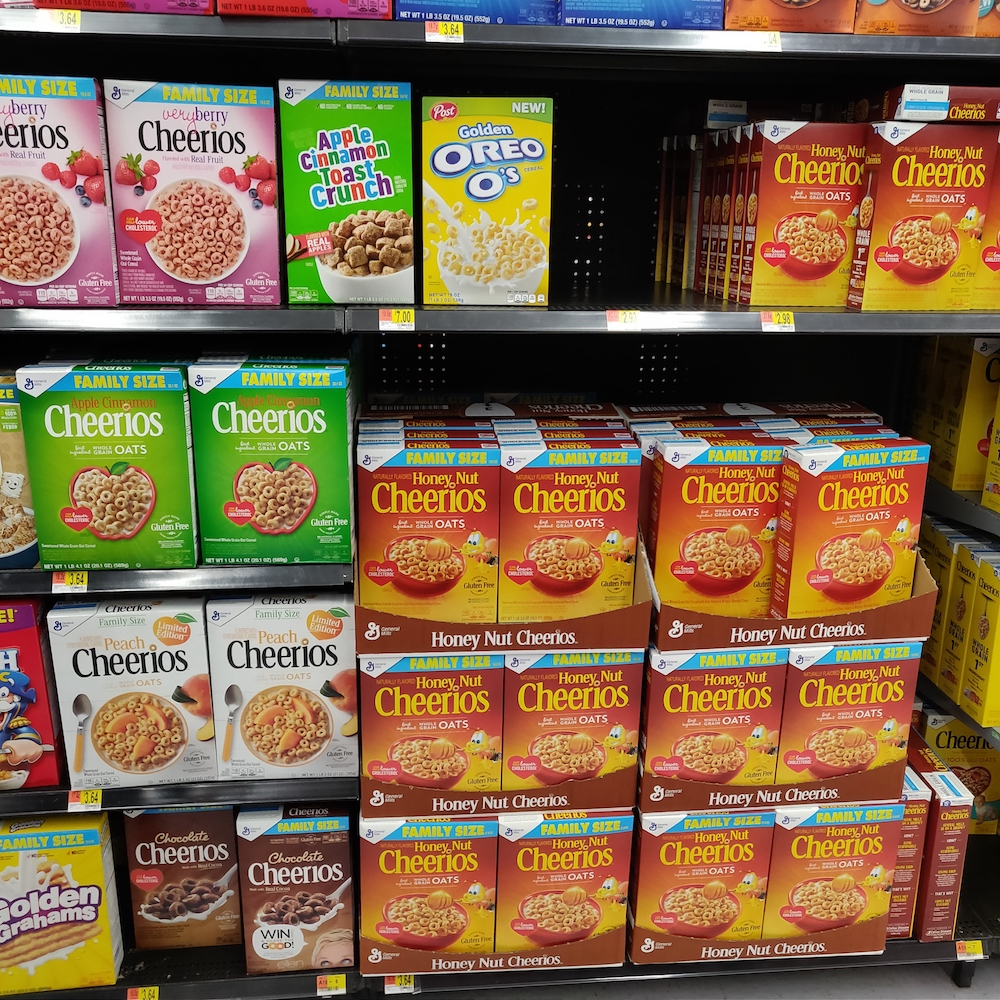Oreo Golden-568301011: (409, 100, 571, 308)
